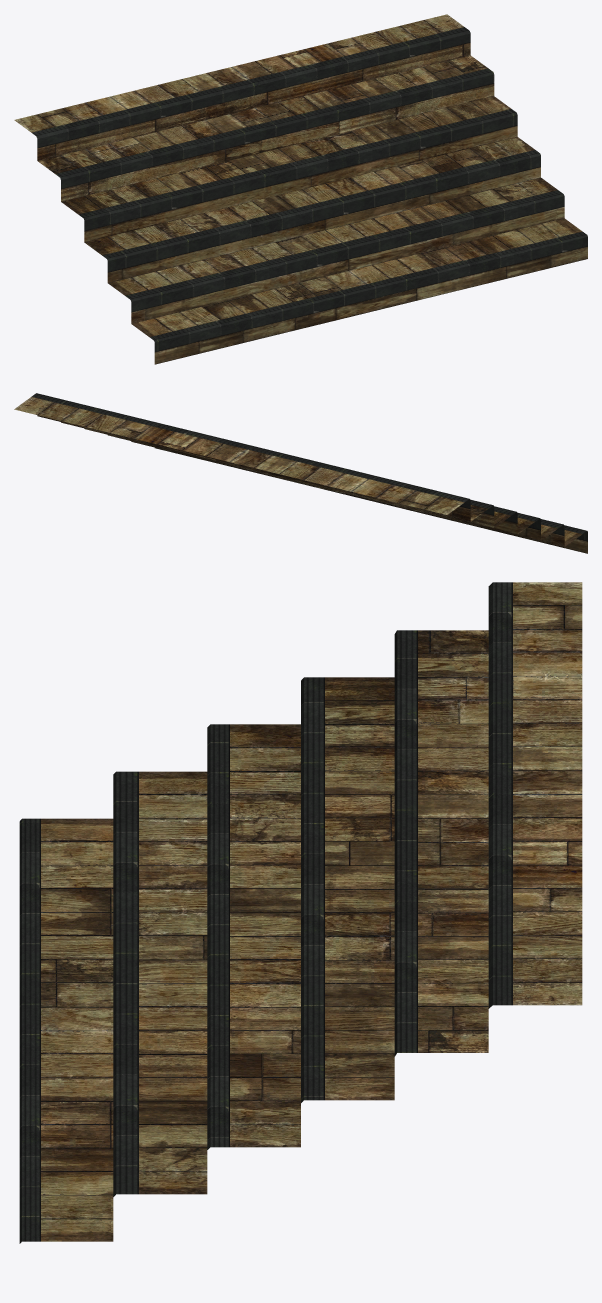
The model's file is urban_damaged_wood_steps_floor.dae.
3 renders of one model, top to bottom at view 1: azimuth 30°, elevation 25°; view 2: azimuth 150°, elevation 25°; view 3: azimuth 270°, elevation 25°, orthographic. The views are drawn at different scales.
Parts seen in each view (by area): view 1: polySurface684, polySurface683; view 2: polySurface684, polySurface683; view 3: polySurface684, polySurface683.
Part boxes in pixels (bbox=[...]): polySurface684: bbox=[14, 14, 587, 364]; polySurface683: bbox=[32, 27, 587, 351]; polySurface684: bbox=[14, 397, 587, 553]; polySurface683: bbox=[31, 393, 587, 541]; polySurface684: bbox=[41, 582, 582, 1241]; polySurface683: bbox=[19, 582, 512, 1243].
Size of the model in its own units: 4 by 1.25 by 2.25.
